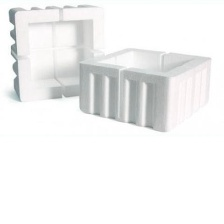foam_box: (73, 45, 216, 136), (5, 2, 108, 104)
